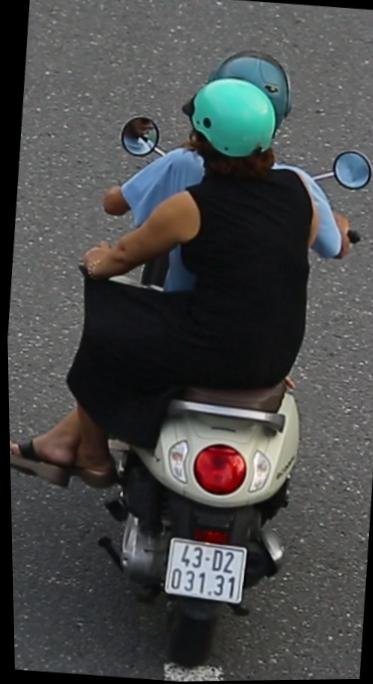LP: (156, 534, 249, 612)
helmet: (171, 73, 291, 198), (210, 46, 296, 109)
